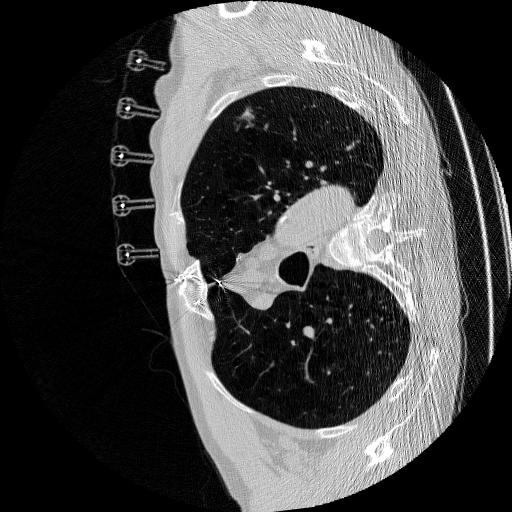nodule: (238, 108, 257, 127)
